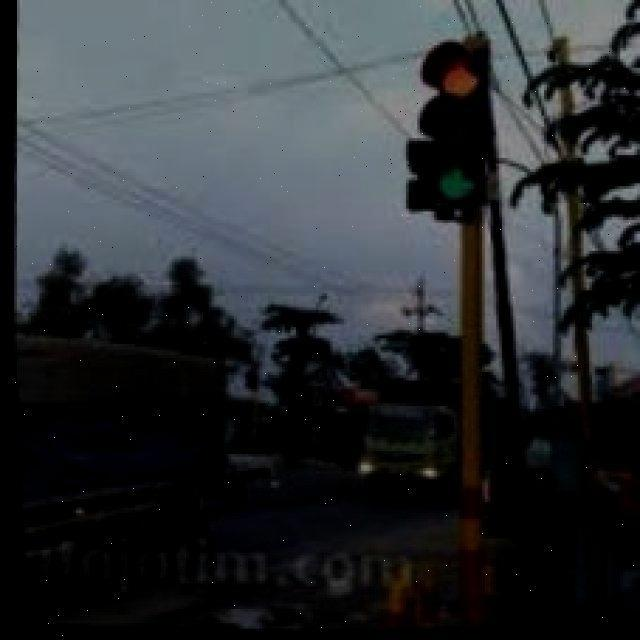Red: (364, 34, 528, 248)
